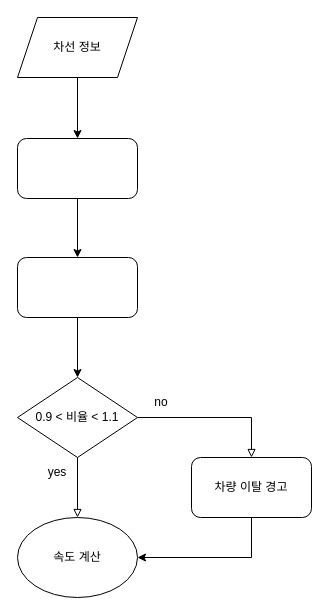
Image size: 329x615. Some labels were removed from this diagram. The centre of each missing label's shape, as x and y in pixels:
"끝점(y=539)인 두 점 x좌표 계산" belongs at [77,168].
"카메라의 중점 x좌표와 비율 계산" belongs at [77,287].
